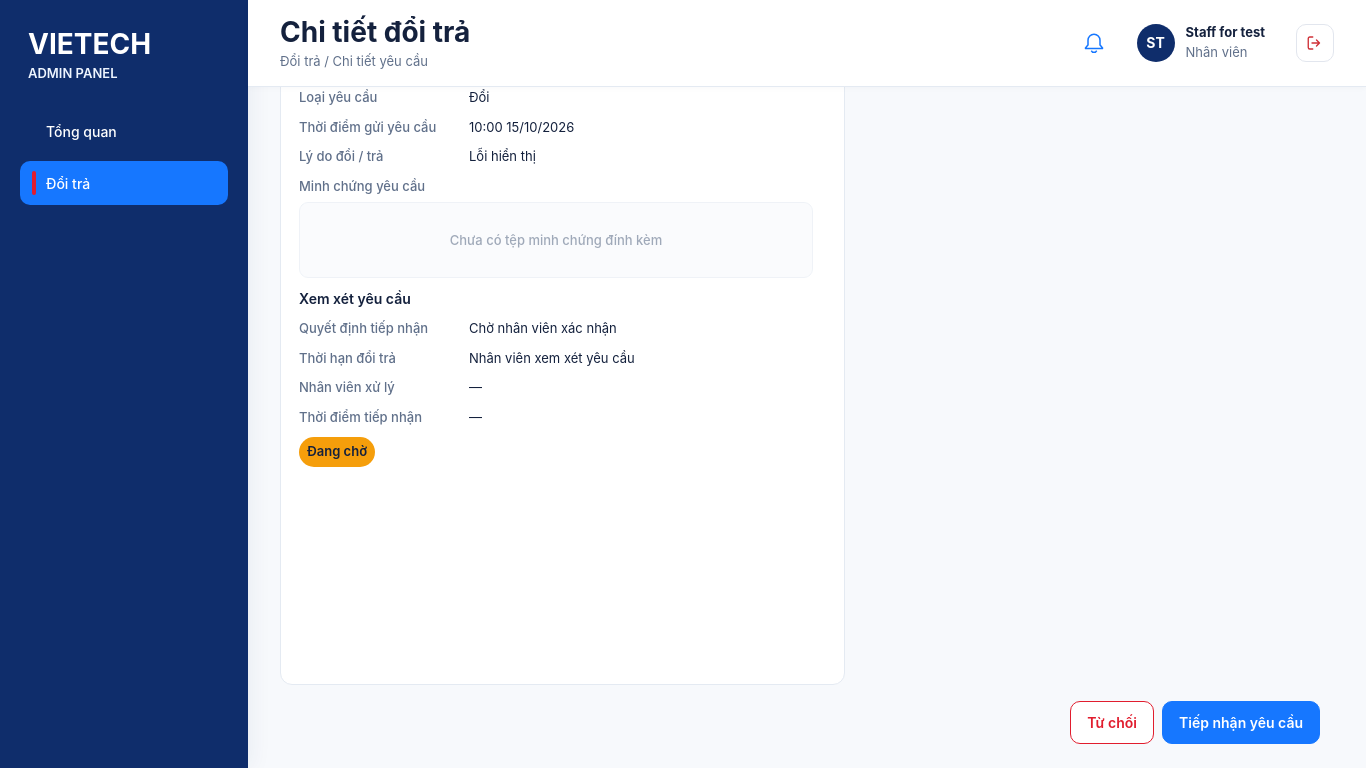
Test: stale response is shown in a dialog; reload fetches the actual terminal state
(page scrolled)
Click the button "Tiếp nhận yêu cầu" at [1241, 722], box [1162,701,1320,744]
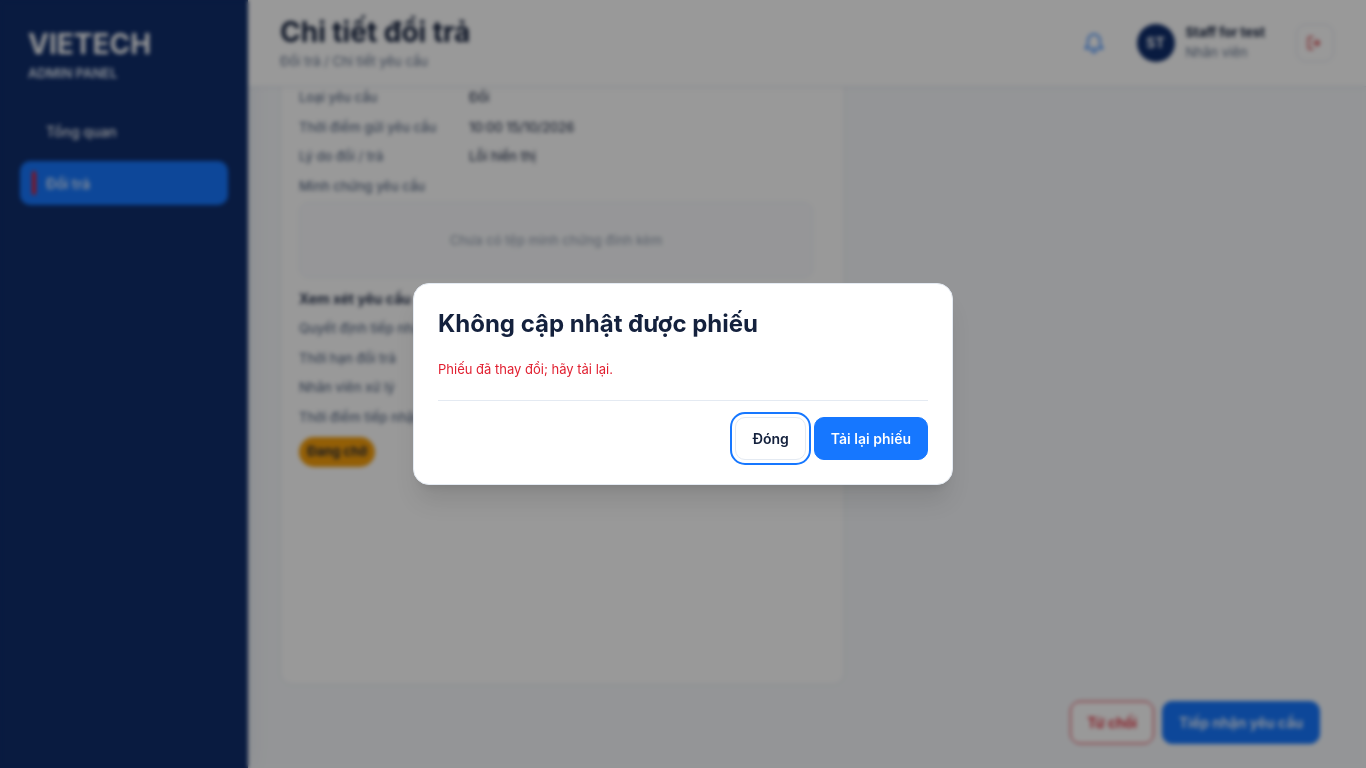
Now the message shows "Phiếu đã thay đổi", box [438,361,613,377]
Click the button "Tải lại phiếu" at [871, 438], box [814,417,928,460]
(page scrolled)
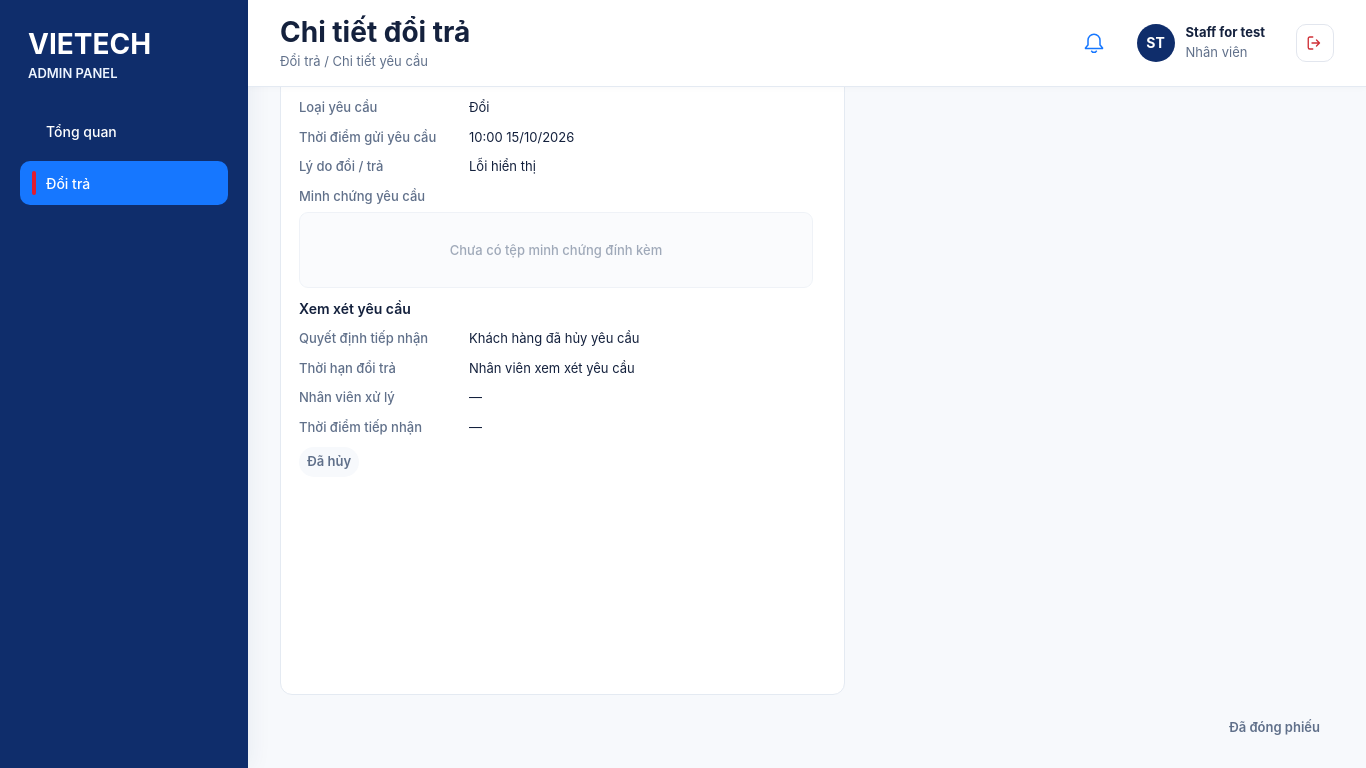
Now the text "Đã đóng phiếu" is shown, box [1229,718,1320,737]
